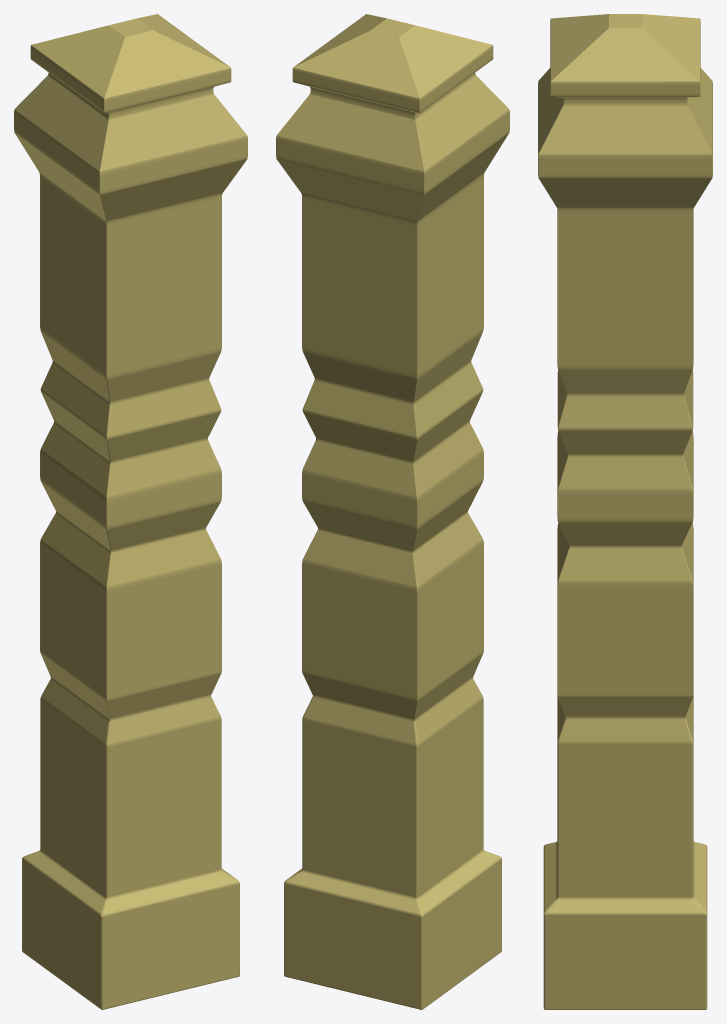
Rendered from patio gate post.fbx.
The picture shows the model from 3 angles, left to right: view 1: azimuth 30°, elevation 25°; view 2: azimuth 150°, elevation 25°; view 3: azimuth 270°, elevation 25°; orthographic projection.
Visible parts, largest first — view 1: Patio gate post; view 2: Patio gate post; view 3: Patio gate post.
Part boxes in pixels (x1,y1,x2,y2): Patio gate post: [14, 14, 247, 1009]; Patio gate post: [276, 14, 509, 1009]; Patio gate post: [538, 14, 712, 1009].
Bounding box in the file's own units: 28.03 × 169 × 28.04.
